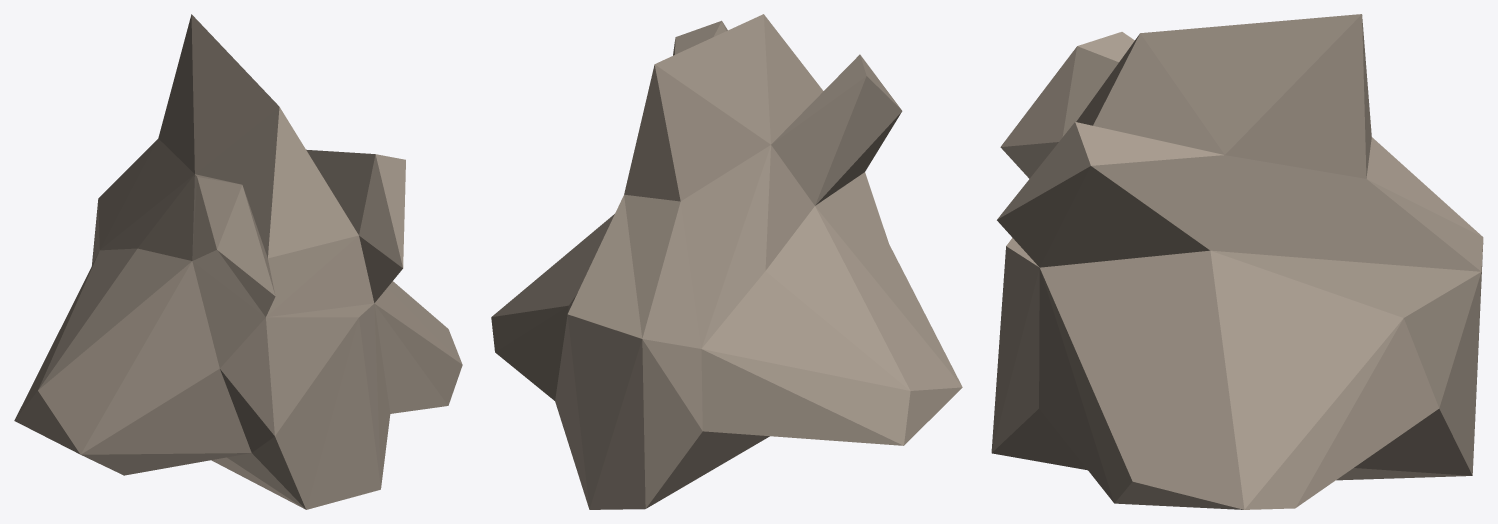
Rendered from SM_Bones_01.fbx.
3 views of the same model, side by side, from view 1: azimuth 30°, elevation 25°; view 2: azimuth 150°, elevation 25°; view 3: azimuth 270°, elevation 25° (orthographic). The views are drawn at different scales.
Visible parts, largest first — view 1: SM_Bones_01; view 2: SM_Bones_01; view 3: SM_Bones_01.
Part boxes in pixels (left/top/right/bottom): SM_Bones_01: left=14, top=14, right=462, bottom=509; SM_Bones_01: left=491, top=14, right=962, bottom=509; SM_Bones_01: left=991, top=14, right=1483, bottom=509.
Size of the model in its own units: 15.49 by 14.75 by 13.8.
Materials: 1 (1 with a texture image).
